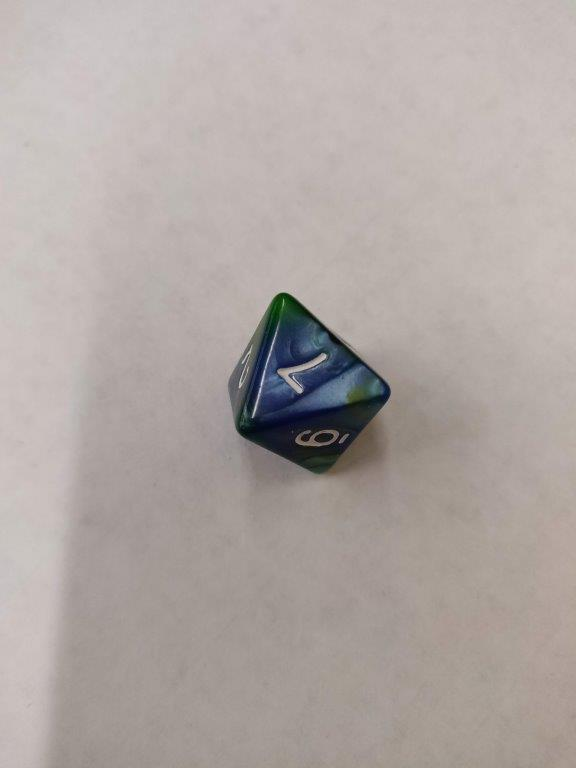d8-7: (225, 292, 394, 477)
